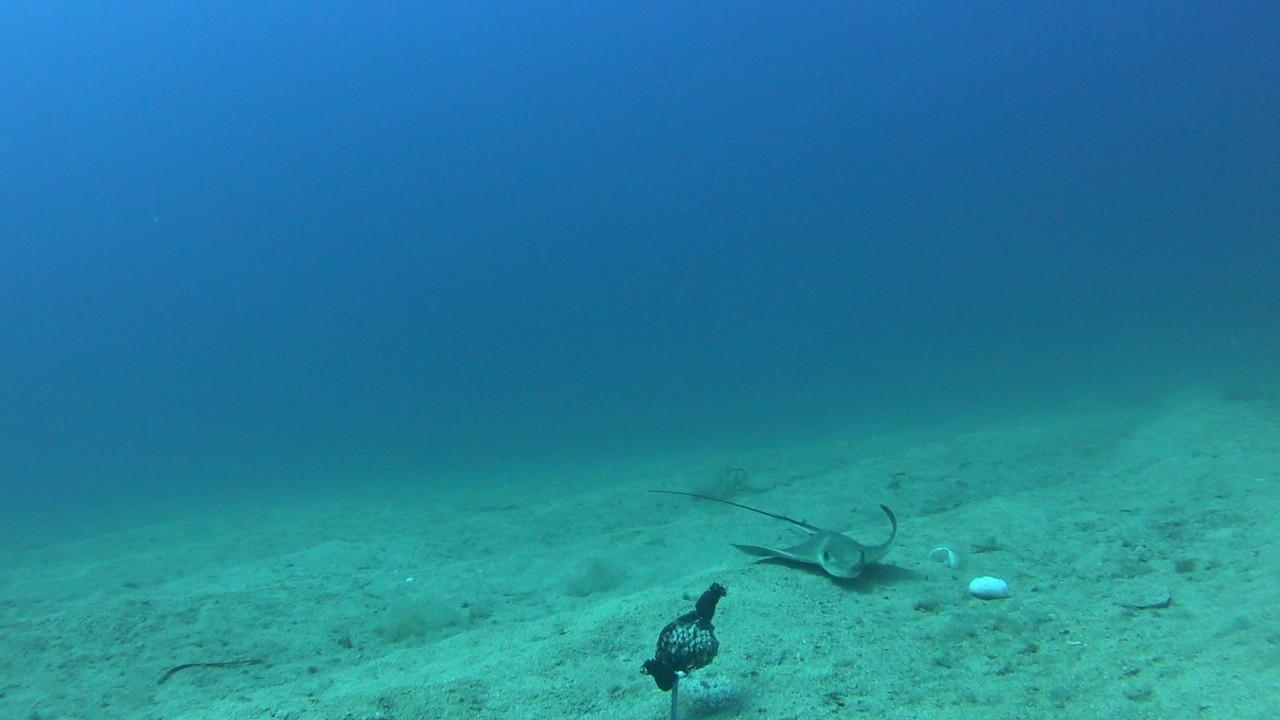myliobatis: (649, 482, 903, 590)
